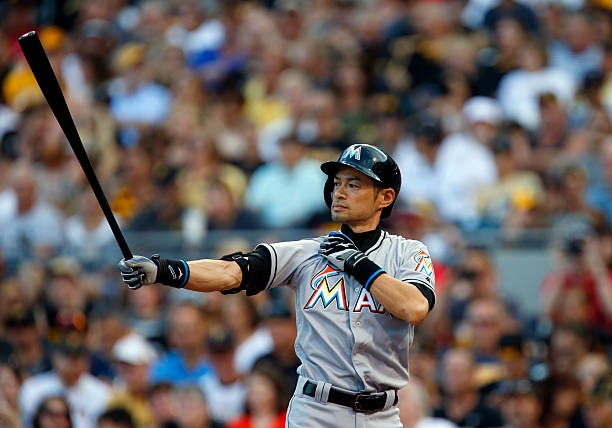bita: (25, 31, 135, 269)
